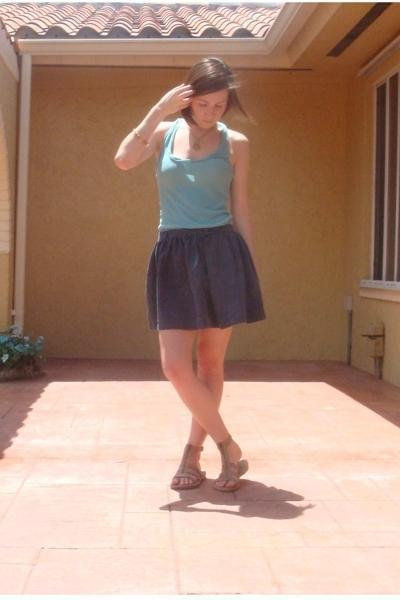shirt: (156, 132, 232, 227)
shoe: (175, 427, 247, 498)
skirt: (147, 224, 264, 329)
